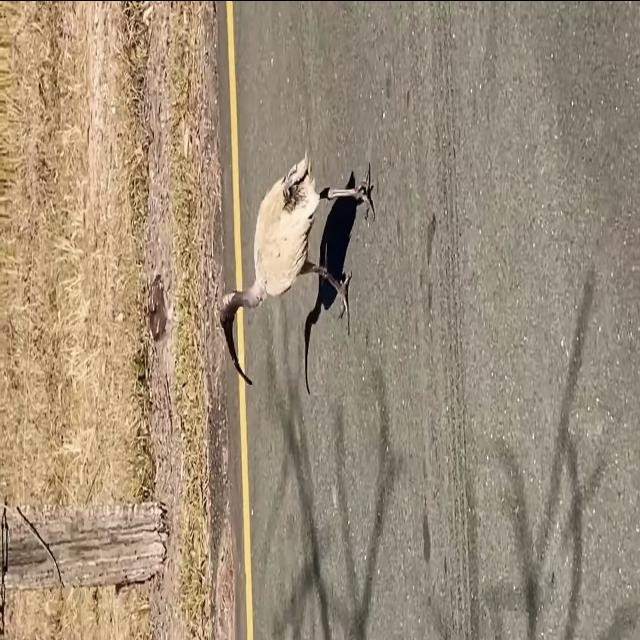Birds-Ibis: (213, 142, 381, 391)
